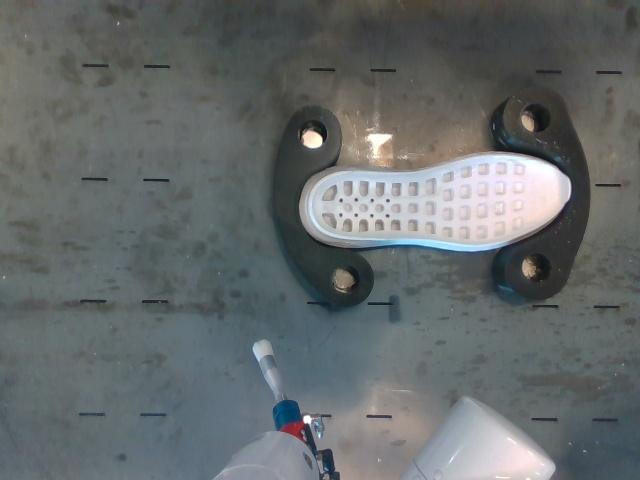shoes: (310, 155, 570, 246)
